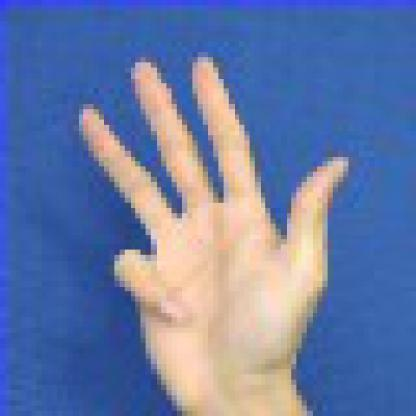nine: (36, 31, 385, 411)
